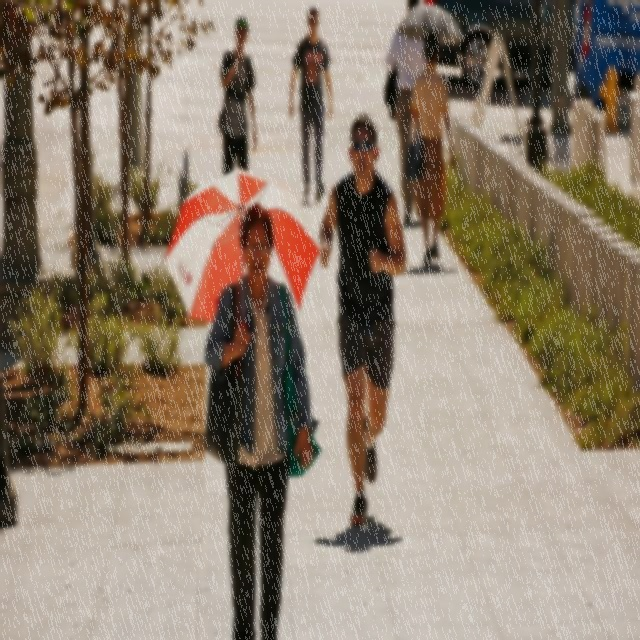pessoa: (202, 198, 323, 640), (317, 111, 408, 530), (403, 28, 458, 268), (384, 0, 427, 227), (288, 4, 334, 208), (219, 18, 258, 178), (314, 514, 406, 555)
